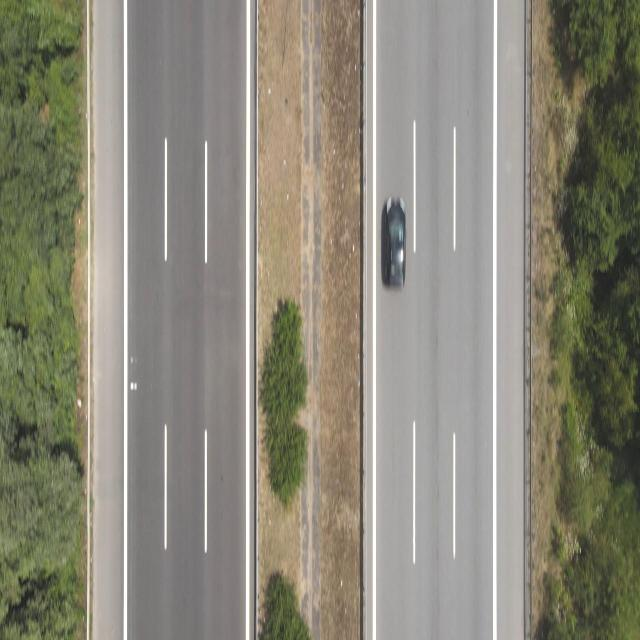Car: (384, 198, 407, 290)
